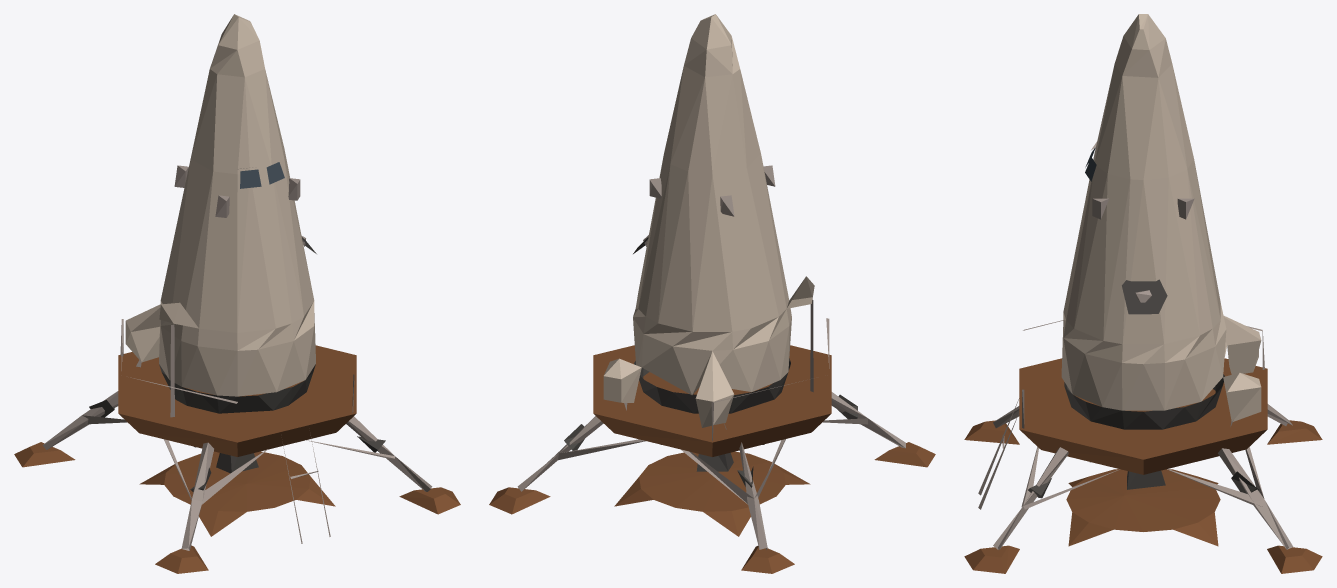
File: mars-lander-lod1.glb
The picture shows the model from 3 angles, left to right: view 1: azimuth 30°, elevation 25°; view 2: azimuth 150°, elevation 25°; view 3: azimuth 270°, elevation 25°; orthographic projection. The views are drawn at different scales.
Size of the model in its own units: 7.43 by 11.45 by 7.43.
